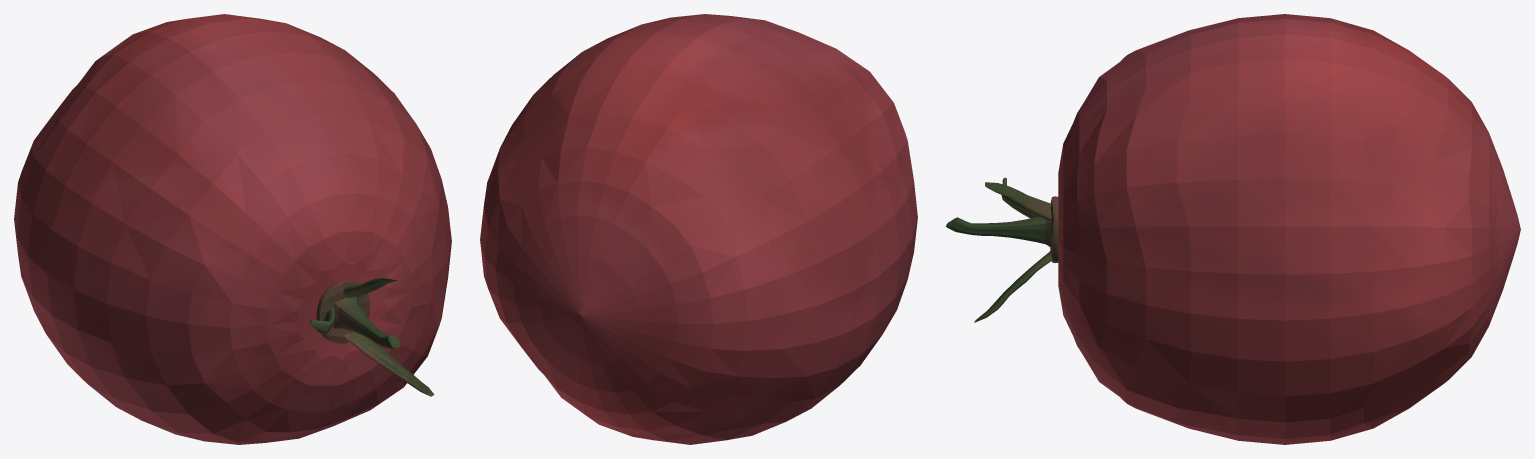
3 renders of one model, left to right at view 1: azimuth 30°, elevation 25°; view 2: azimuth 150°, elevation 25°; view 3: azimuth 270°, elevation 25°, orthographic.
Visible parts, largest first — view 1: Sphere_0; view 2: Sphere_0; view 3: Sphere_0.
Boxes of the visible parts, bbox=[...] form: Sphere_0: bbox=[14, 14, 451, 444]; Sphere_0: bbox=[480, 14, 917, 444]; Sphere_0: bbox=[946, 14, 1520, 444].
Bounding box in the file's own units: 0.03 × 0.03 × 0.04.
Materials: 1 (1 with a texture image).
